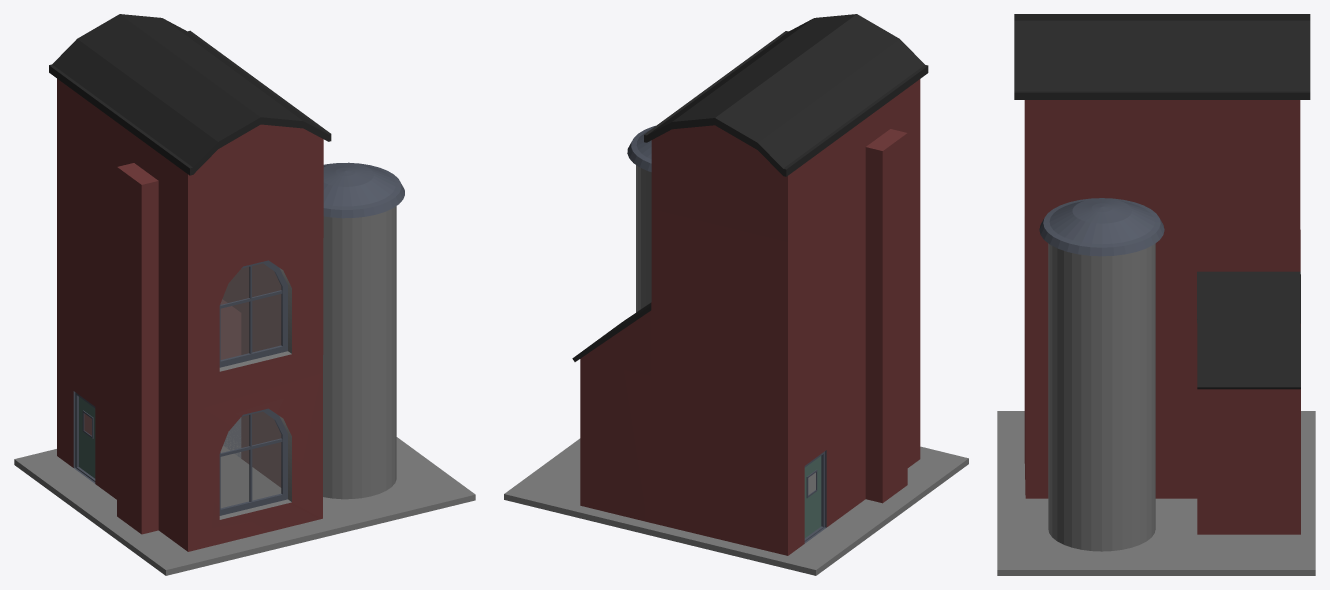
File: industrial2.fbx
The picture shows the model from 3 angles, left to right: view 1: azimuth 30°, elevation 25°; view 2: azimuth 150°, elevation 25°; view 3: azimuth 270°, elevation 25°; orthographic projection. The views are drawn at different scales.
Parts seen in each view (by area): view 1: Cube; view 2: Cube; view 3: Cube.
Part boxes in pixels (x1,y1,x2,y2): Cube: (14, 14, 475, 575); Cube: (504, 14, 968, 575); Cube: (997, 14, 1315, 575).
Bounding box in the file's own units: 1608 × 2122 × 1364.
